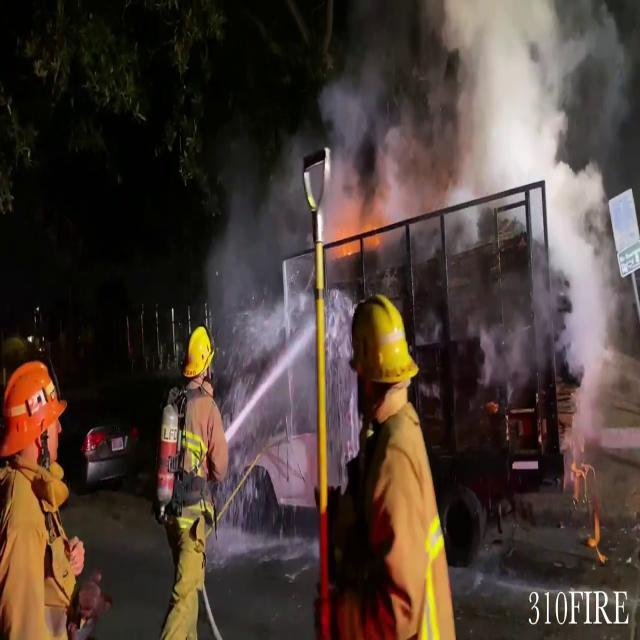Smoke: (276, 0, 614, 239), (201, 180, 357, 446), (538, 150, 622, 414)
